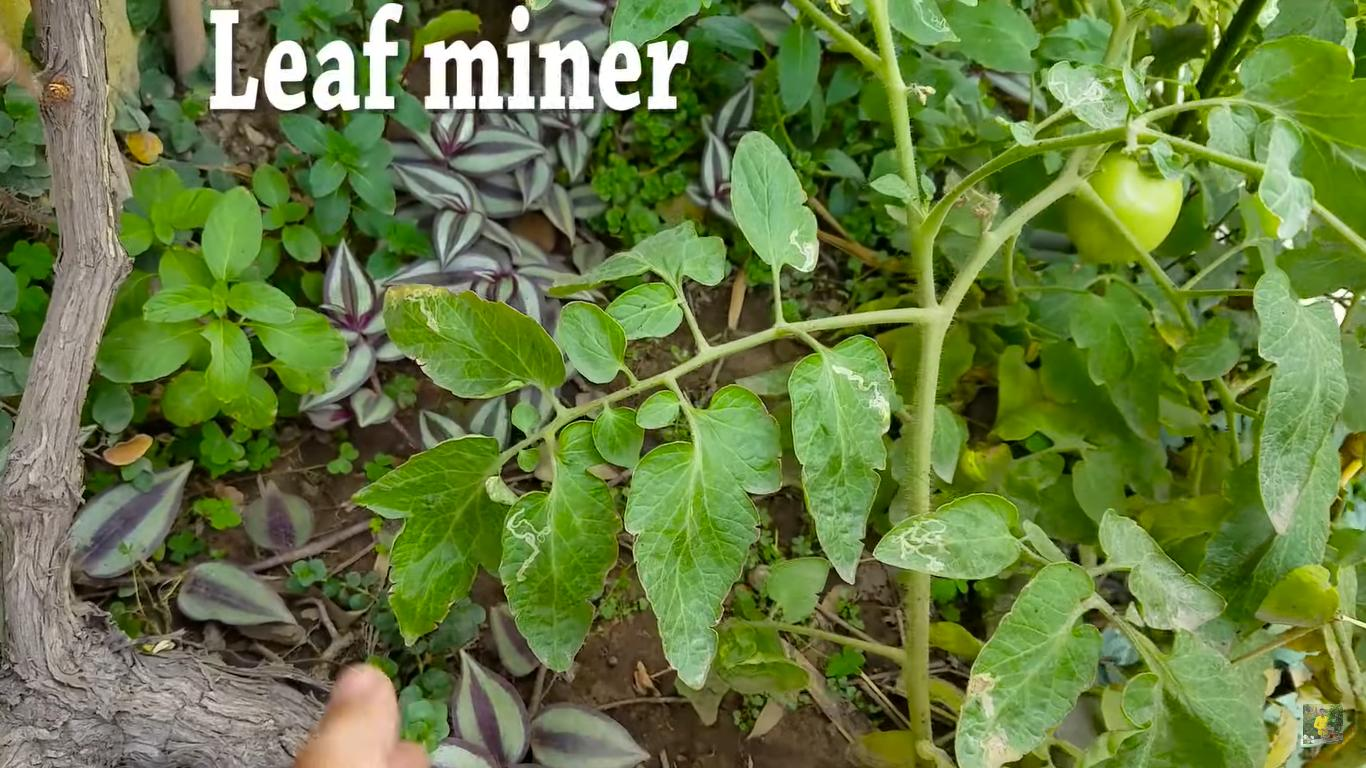Healthy: (1065, 279, 1163, 446), (558, 297, 628, 385)
Leaf_Miner: (497, 418, 624, 673), (952, 560, 1104, 768), (786, 330, 893, 585), (383, 284, 566, 398), (872, 490, 1023, 583), (732, 129, 821, 274), (1046, 61, 1132, 129), (885, 0, 963, 48)
